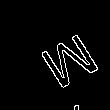M_SE: (30, 27, 101, 94)
